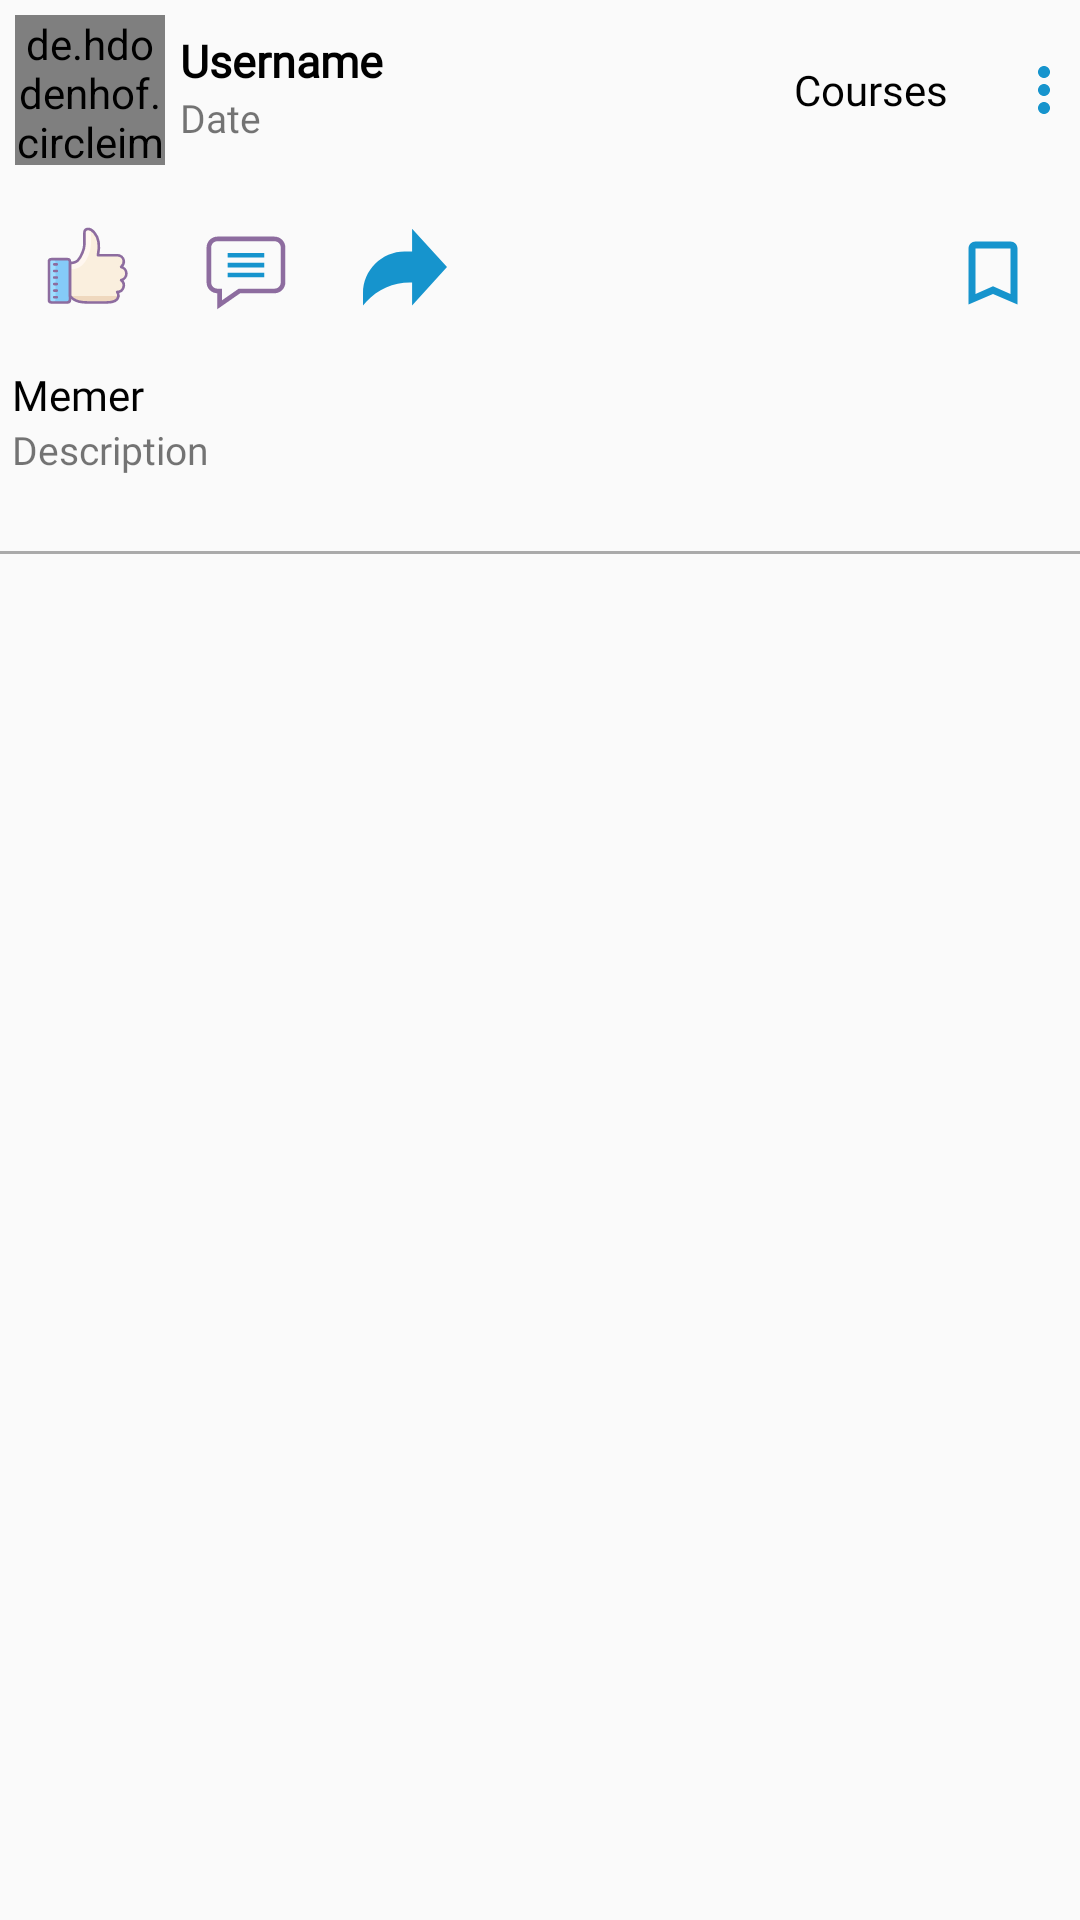

Screen size 1080×1920. Icon name, then its box in pixels as box=[x1, y1, x2, y2]:
comment: box=[206, 236, 286, 309]
like: box=[47, 227, 128, 304]
options: box=[1038, 66, 1050, 114]
save: box=[968, 241, 1018, 305]
share: box=[363, 229, 447, 306]
